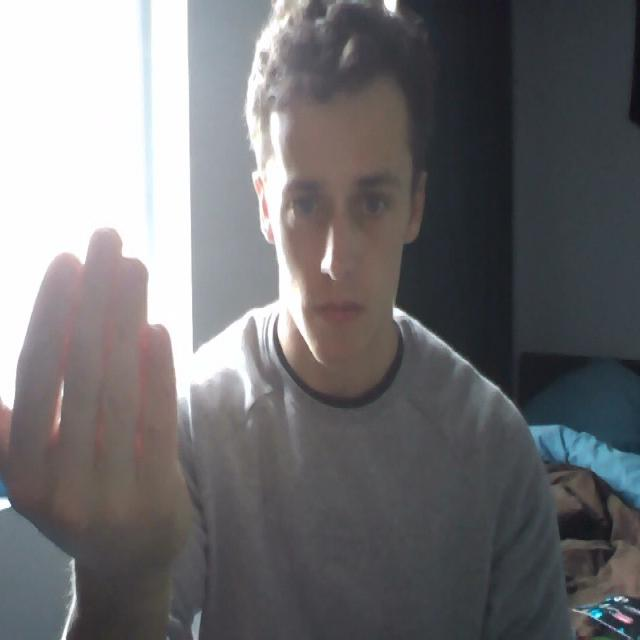forward: (0, 200, 203, 610)
